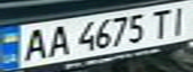4: (75, 17, 100, 52)
5: (127, 10, 151, 44)
6: (93, 16, 115, 51)
7: (109, 14, 133, 47)
A: (18, 25, 51, 62), (42, 23, 72, 57)
I: (166, 2, 193, 35)
T: (145, 7, 175, 39)
